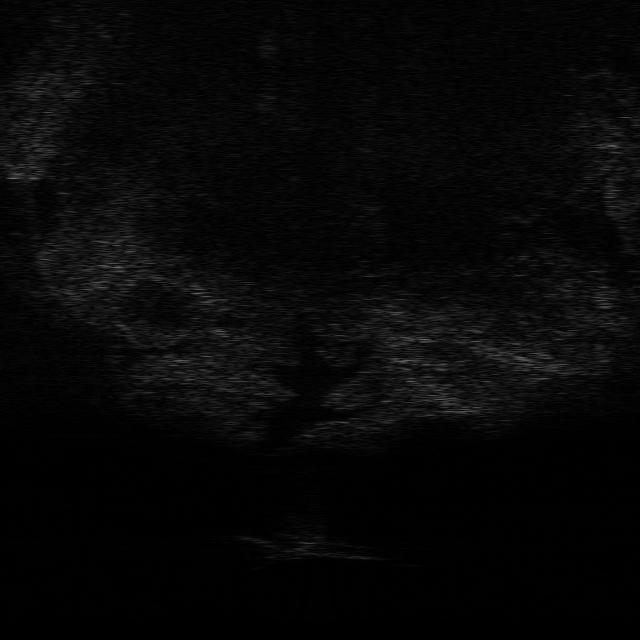plane: (241, 531, 385, 562)
